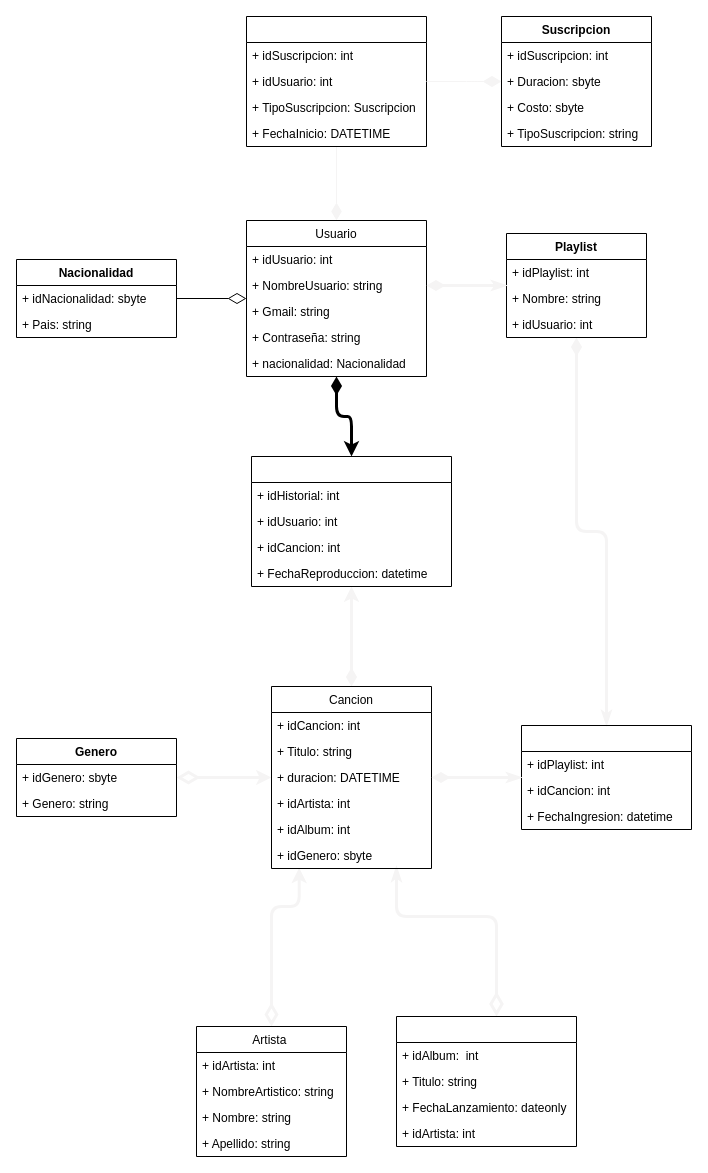
The diagram is 708 pixels wide and 1173 high, and some of its shapes have lost their labels. The box of each missing label's shape, as (x1, y1, x2, y2) in pixels:
Albun: (396, 1016, 576, 1146)
HistorialReproduccion: (250, 456, 452, 586)
Playlist_Cancion: (520, 724, 692, 830)
Usuario_Suscripcion: (246, 16, 426, 146)
